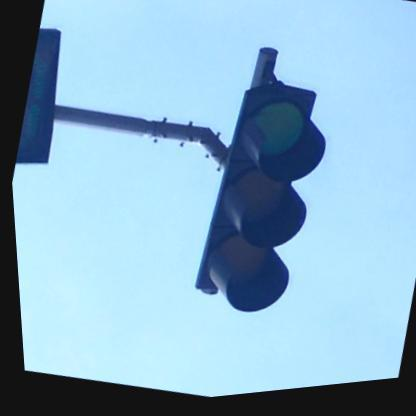green: (173, 73, 345, 338)
